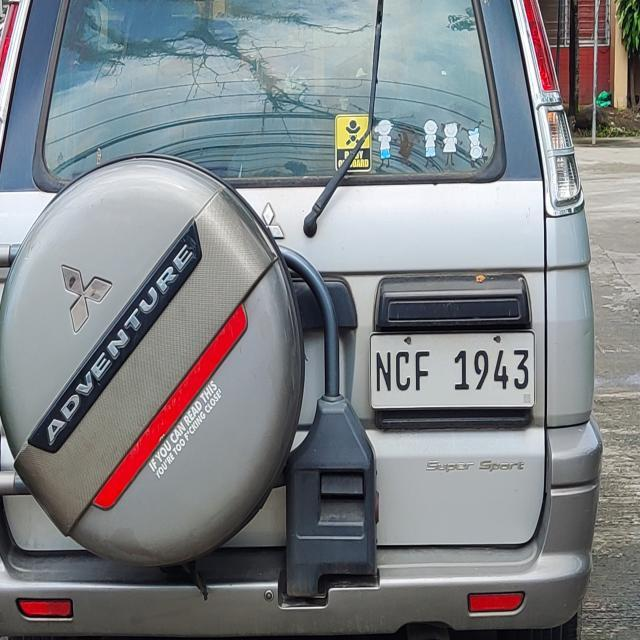LicensePlate: (358, 328, 545, 418)
